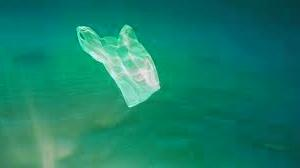Trash: (71, 22, 169, 115)
